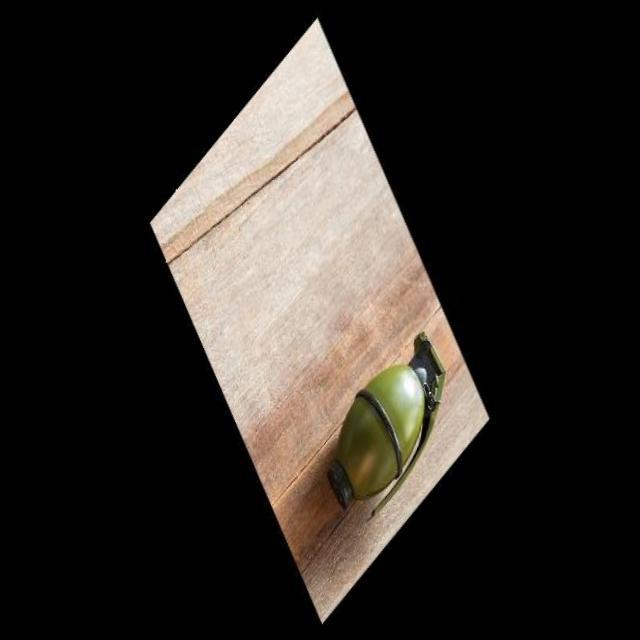grenade: (312, 306, 456, 546)
